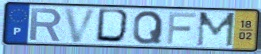D: (94, 7, 134, 45)
F: (165, 11, 198, 45)
M: (195, 11, 237, 48)
Q: (131, 10, 165, 46)
R: (29, 7, 64, 43)
V: (62, 7, 99, 45)
